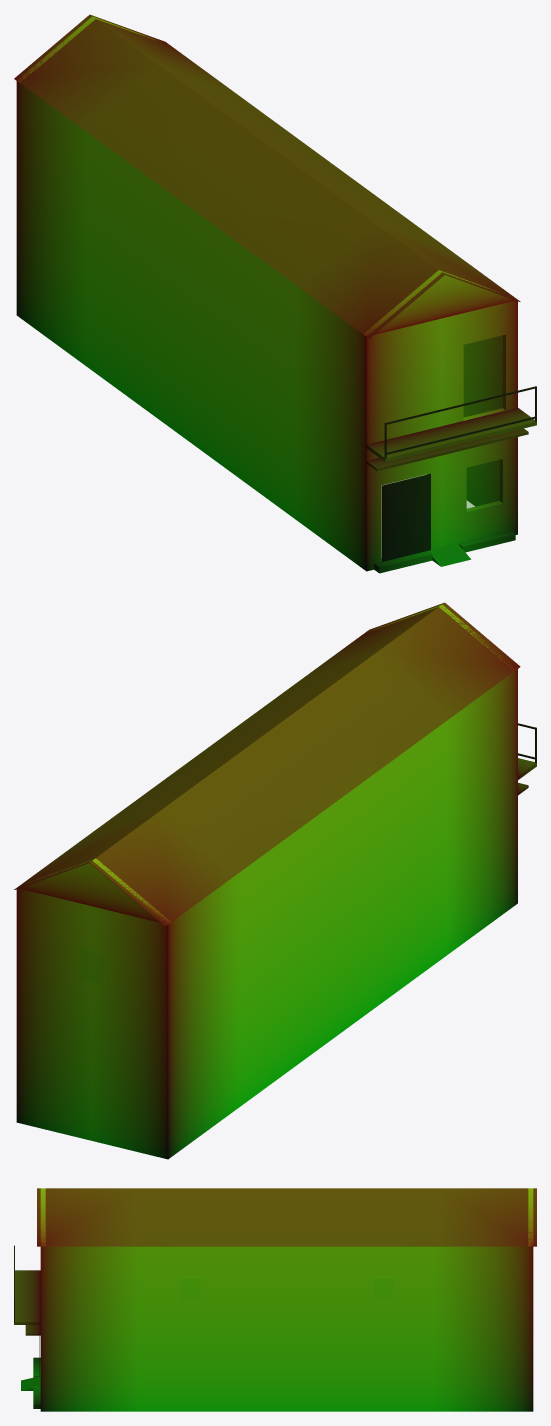
File: nha_ong_5x20.mid.glb
3 renders of one model, top to bottom at view 1: azimuth 30°, elevation 25°; view 2: azimuth 150°, elevation 25°; view 3: azimuth 270°, elevation 25°, orthographic. The views are drawn at different scales.
Parts seen in each view (by area): view 1: nha_ong_5x20; view 2: nha_ong_5x20; view 3: nha_ong_5x20.
Boxes of the visible parts, left/top/right/bottom form: nha_ong_5x20: left=14, top=14, right=536, bottom=573; nha_ong_5x20: left=14, top=602, right=536, bottom=1159; nha_ong_5x20: left=14, top=1188, right=536, bottom=1411.
Size of what is drawn, in the model's own units: 5.01 by 8.84 by 21.23.
